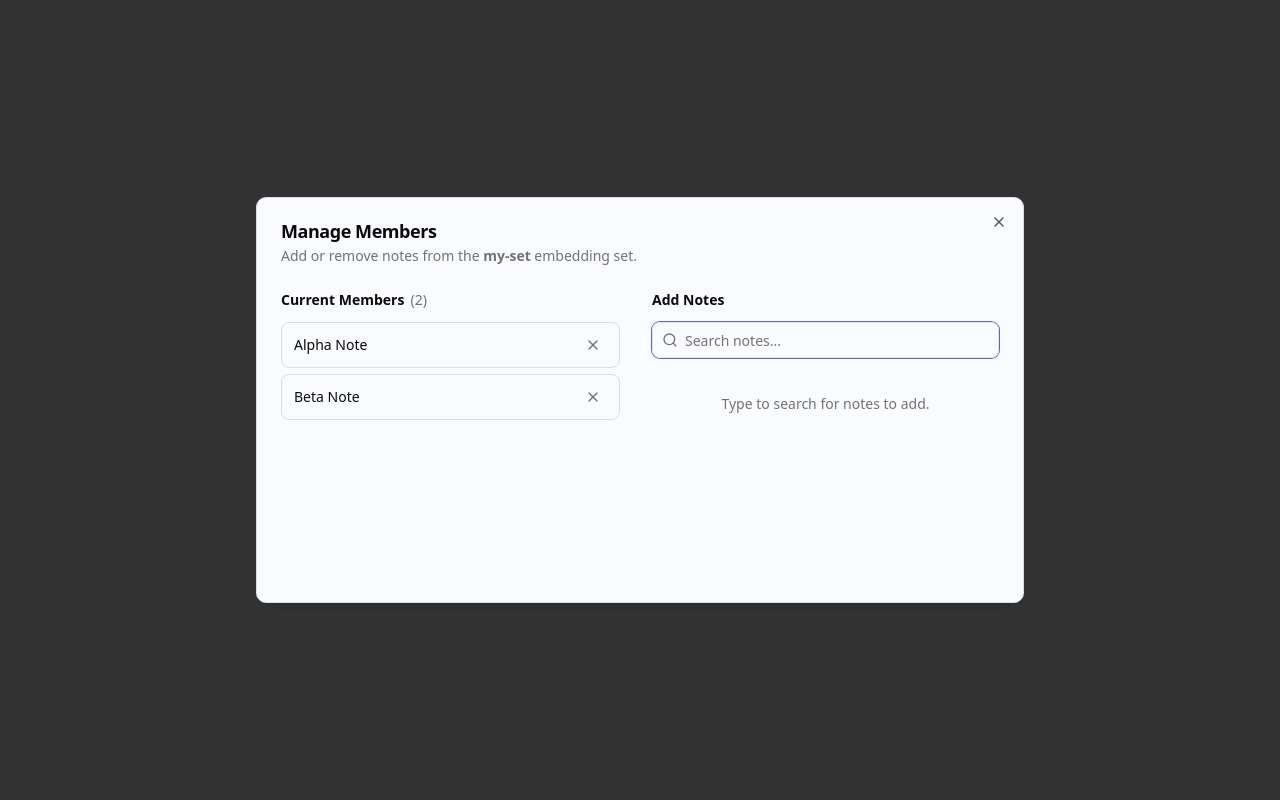
Test: MemberManager › shows error message when removeSetMember fails
expect the text "Alpha Note" is shown: met, box [294,335,367,354]
Click the button named "remove" in the row of "Alpha Note".
click(593, 345)  # box [579,331,607,359]
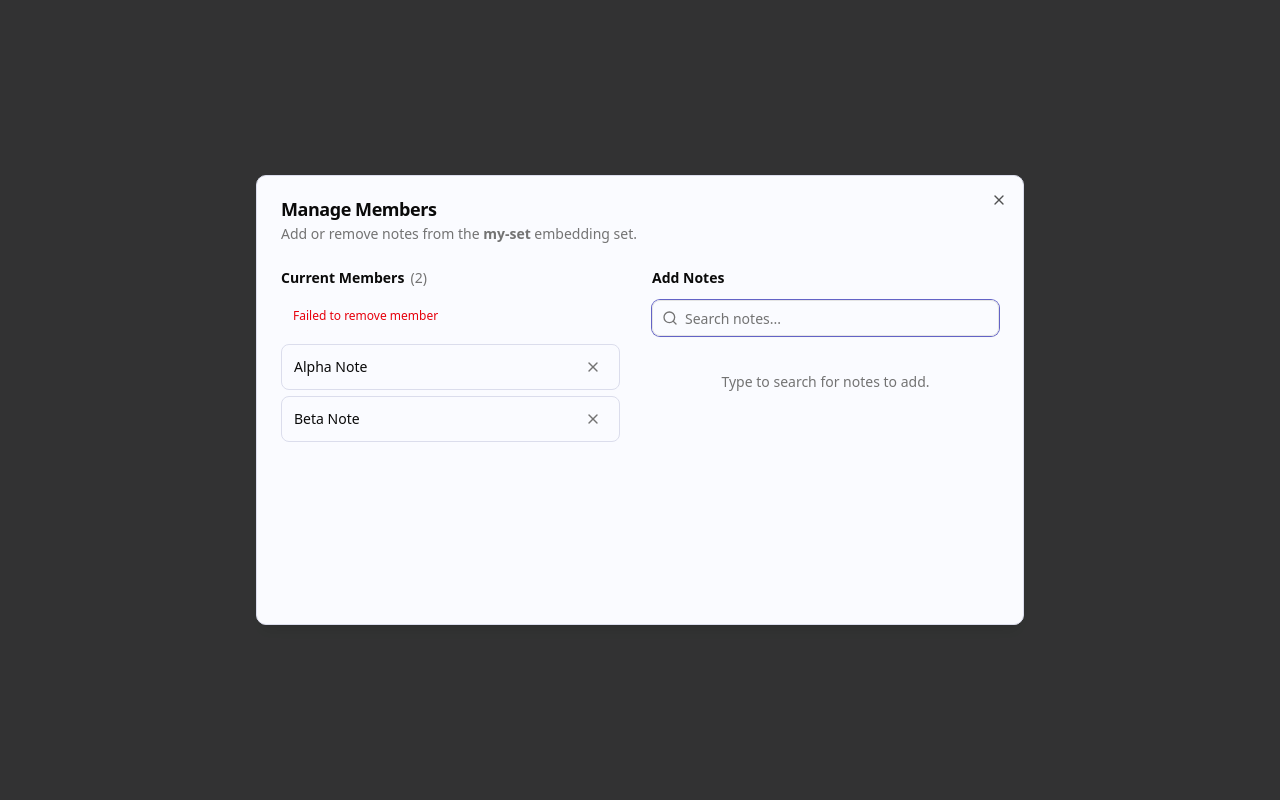
expect the text "Failed to remove member" is shown: met, box [293,307,438,324]
